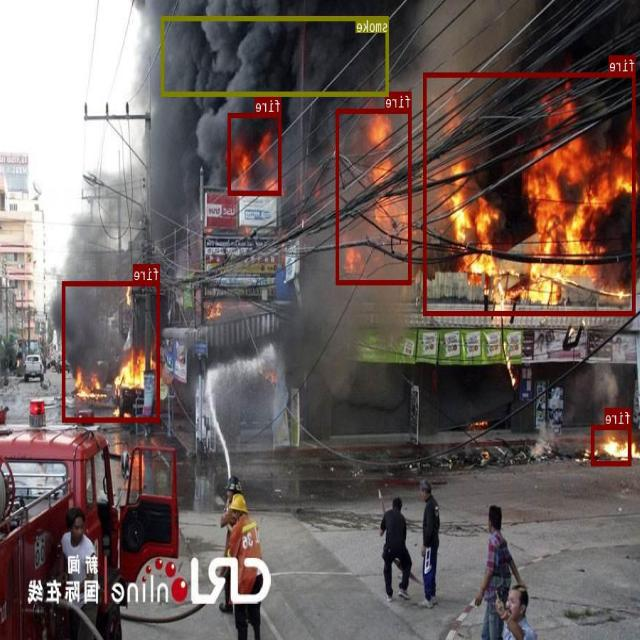fire: (424, 73, 636, 314), (63, 280, 160, 421), (337, 109, 412, 284), (228, 113, 282, 194), (592, 425, 632, 464)
smoke: (162, 15, 389, 96)
